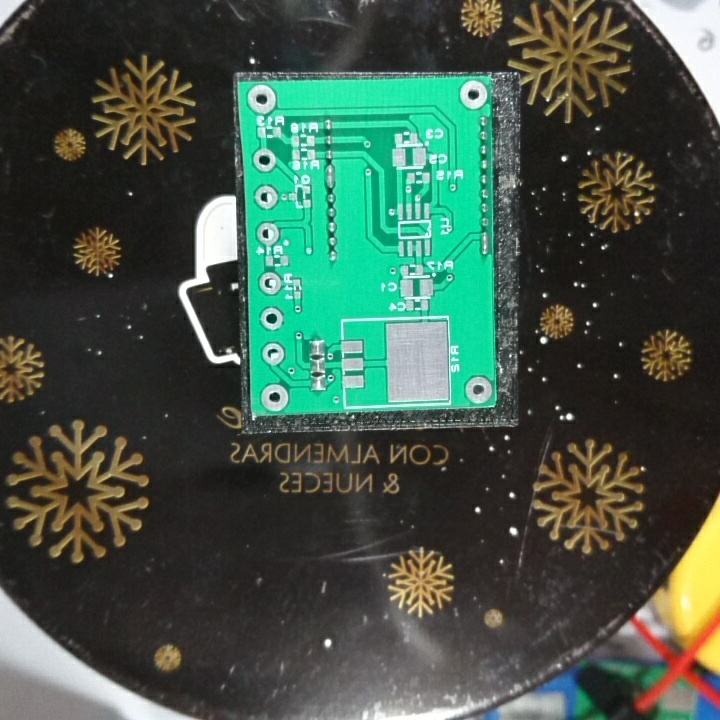F: (243, 82, 280, 114), (458, 78, 490, 112), (461, 375, 494, 406), (259, 380, 289, 414), (256, 268, 284, 299), (252, 183, 280, 212), (250, 147, 280, 173), (259, 305, 286, 331), (259, 341, 285, 368), (255, 221, 282, 246)
P: (322, 163, 341, 192), (477, 229, 493, 257)
